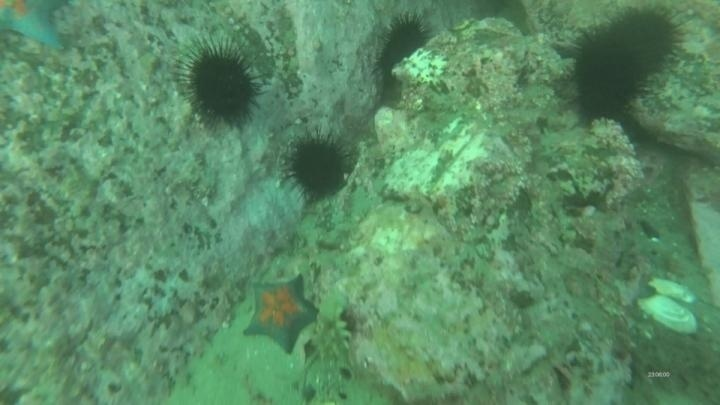echinus: (566, 26, 649, 124), (180, 40, 264, 129), (603, 4, 687, 75), (283, 131, 353, 202), (372, 12, 435, 88)
holothurian: (308, 287, 354, 366)
starfish: (240, 273, 320, 356), (1, 1, 73, 52)
